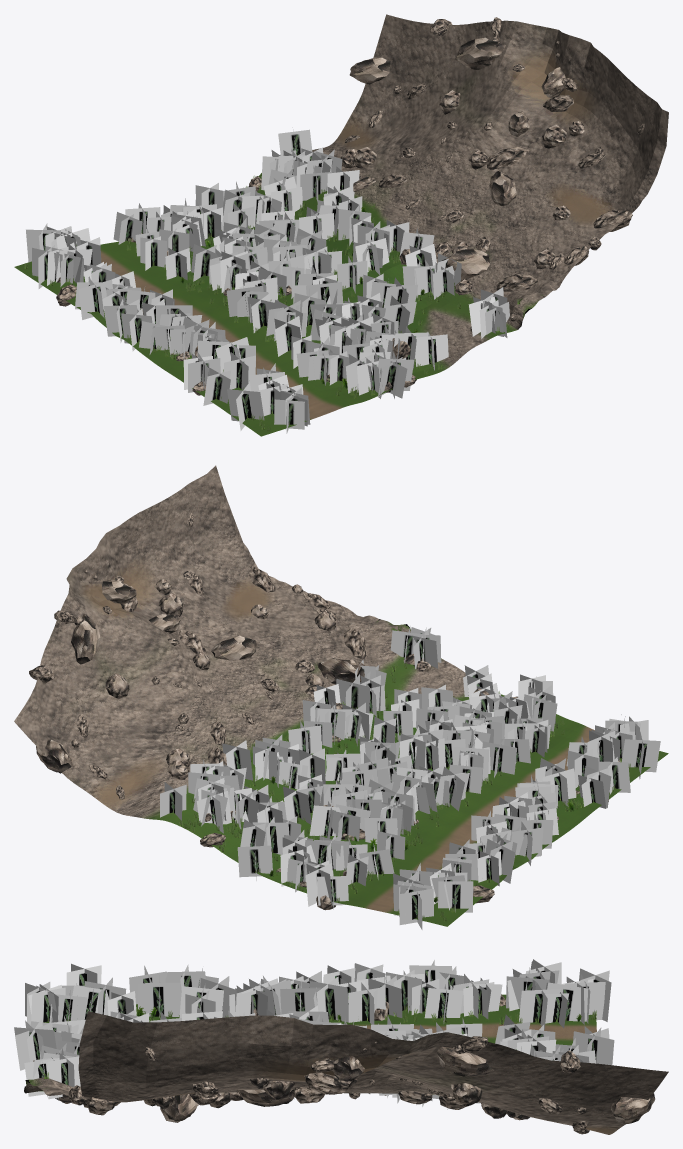
The model's file is starting_level_terrain1.glb.
The picture shows the model from 3 angles, top to bottom: view 1: azimuth 30°, elevation 25°; view 2: azimuth 150°, elevation 25°; view 3: azimuth 270°, elevation 25°; orthographic projection. The views are drawn at different scales.
Visible parts, largest first — view 1: Plane-col, Cube.019-col.002, rsz_grass1_sprite_final.190, Cube.019-col.009, rsz_grass1_sprite_final.174, rsz_grass1_sprite_final.012, rsz_grass1_sprite_final.201, Cube.019-col.001, rsz_grass1_sprite_final.169, rsz_grass1_sprite_final.039, rsz_grass1_sprite_final.171, Cube.019-col.006 (+18 smaller); view 2: Plane-col, rsz_grass1_sprite_final.007, rsz_grass1_sprite_final.190, Cube.019-col.002, rsz_grass1_sprite_final.002, rsz_grass1_sprite_final.054, Cube.019-col.009, Cube.019-col.006, rsz_grass1_sprite_final.115, rsz_grass1_sprite_final.161, rsz_grass1_sprite_final.127, rsz_grass1_sprite_final.085 (+15 smaller); view 3: Plane-col, rsz_grass1_sprite_final.169, rsz_grass1_sprite_final.025, Cube.019-col.002, rsz_grass1_sprite_final.022, rsz_grass1_sprite_final.013, rsz_grass1_sprite_final.074, Cube.019-col.001, rsz_grass1_sprite_final.176, rsz_grass1_sprite_final.004, rsz_grass1_sprite_final.117, rsz_grass1_sprite_final.199 (+53 smaller).
Boxes of the visible parts, x1,y1,x2,y2 form: Plane-col: (14,14,668,436); Cube.019-col.002: (455,37,505,70); rsz_grass1_sprite_final.190: (227,382,264,430); Cube.019-col.009: (442,249,489,279); rsz_grass1_sprite_final.174: (415,331,448,370); rsz_grass1_sprite_final.012: (78,277,112,319); rsz_grass1_sprite_final.201: (274,398,304,433); Cube.019-col.001: (349,57,390,84); rsz_grass1_sprite_final.169: (224,352,255,389); rsz_grass1_sprite_final.039: (140,236,166,270); rsz_grass1_sprite_final.171: (203,367,231,405); Cube.019-col.006: (488,171,516,206); Plane-col: (14,465,668,926); rsz_grass1_sprite_final.007: (399,883,433,929); rsz_grass1_sprite_final.190: (621,731,660,779); Cube.019-col.002: (71,613,100,664); rsz_grass1_sprite_final.002: (237,839,272,880); rsz_grass1_sprite_final.054: (438,881,473,912); Cube.019-col.009: (317,657,364,684); Cube.019-col.006: (211,635,257,660); rsz_grass1_sprite_final.115: (435,766,469,811); rsz_grass1_sprite_final.161: (482,737,517,777); rsz_grass1_sprite_final.127: (336,674,369,713); rsz_grass1_sprite_final.085: (283,784,311,824); Plane-col: (24,994,668,1134); rsz_grass1_sprite_final.169: (137,975,180,1019); rsz_grass1_sprite_final.025: (309,976,348,1022); Cube.019-col.002: (437,1046,493,1076); rsz_grass1_sprite_final.022: (348,982,385,1024); rsz_grass1_sprite_final.013: (424,984,463,1023); rsz_grass1_sprite_final.074: (519,982,560,1029); Cube.019-col.001: (611,1093,655,1123); rsz_grass1_sprite_final.176: (47,1052,80,1099); rsz_grass1_sprite_final.004: (573,1027,614,1065); rsz_grass1_sprite_final.117: (280,981,319,1014); rsz_grass1_sprite_final.199: (31,984,65,1022).
Size of the model in its own units: 65.75 by 29.51 by 67.38.
Materials: 8 (8 with a texture image).
